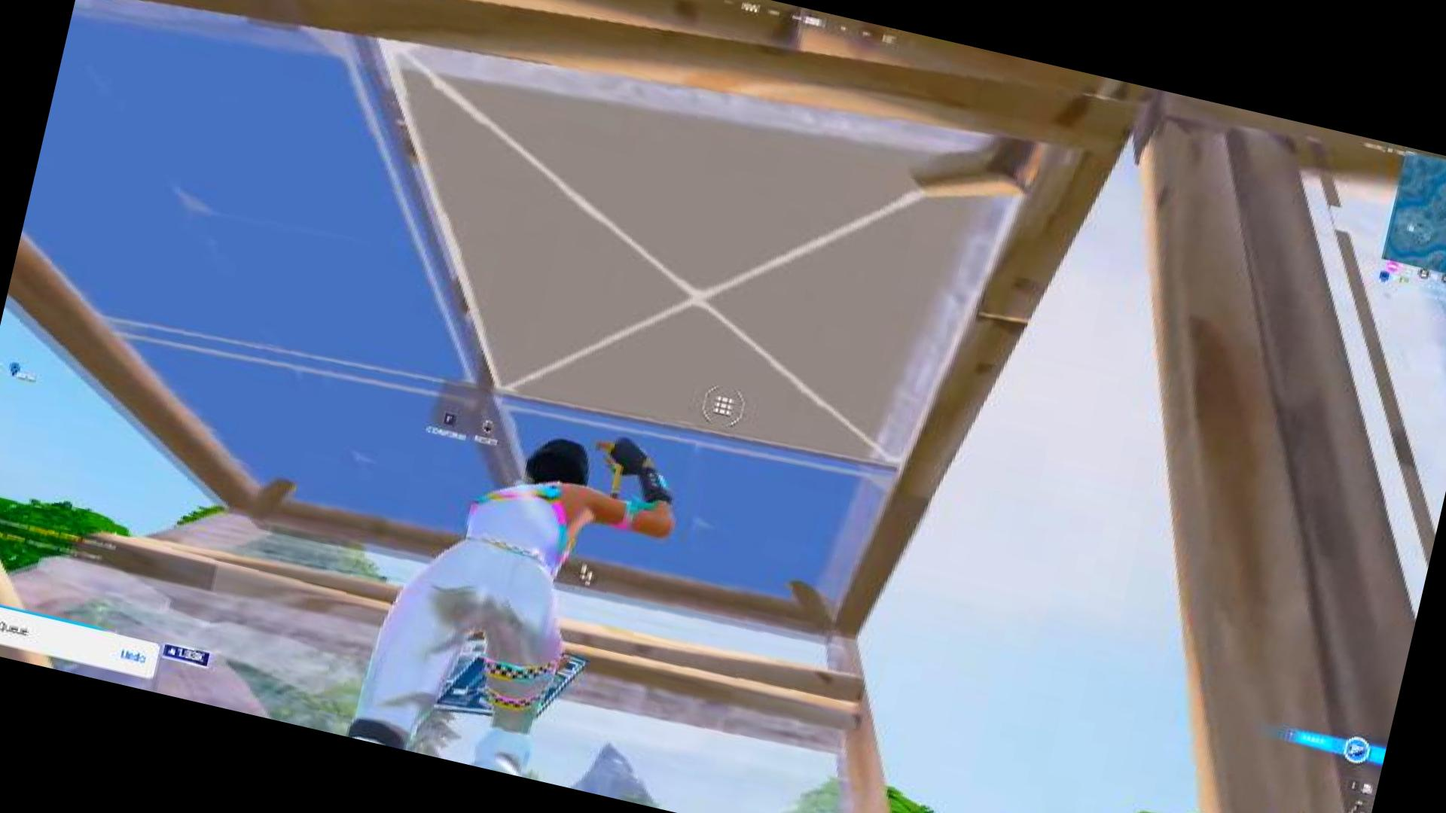player: (343, 410, 672, 794)
